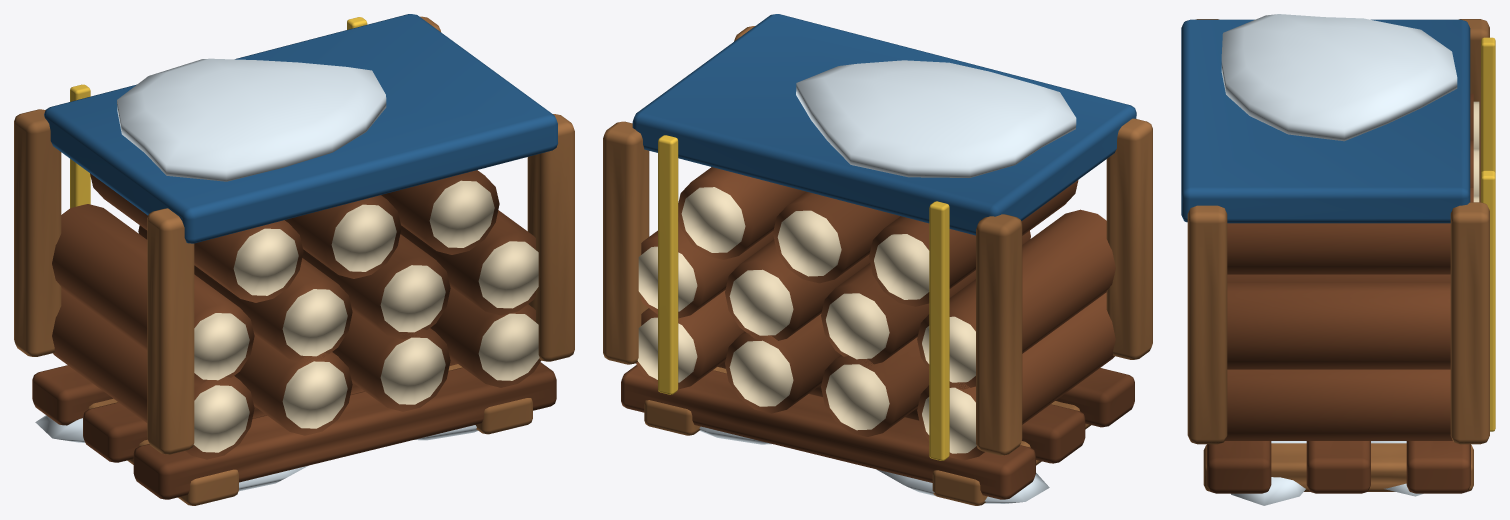
Rendered from wood_stack.glb.
3 renders of one model, left to right at view 1: azimuth 30°, elevation 25°; view 2: azimuth 150°, elevation 25°; view 3: azimuth 270°, elevation 25°, orthographic.
Visible parts, largest first — view 1: wood_stack; view 2: wood_stack; view 3: wood_stack.
Part boxes in pixels (x1=…): wood_stack: x1=14, y1=14, x2=574, y2=505; wood_stack: x1=603, y1=14, x2=1152, y2=505; wood_stack: x1=1181, y1=14, x2=1495, y2=505.
Bounding box in the file's own units: 1.45 × 1.18 × 0.9575.
